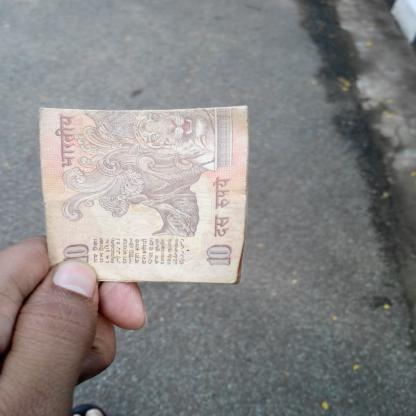Old10Back: (38, 104, 251, 286)
